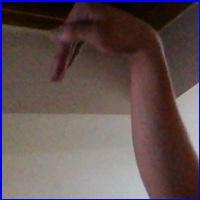del: (49, 2, 158, 89)
